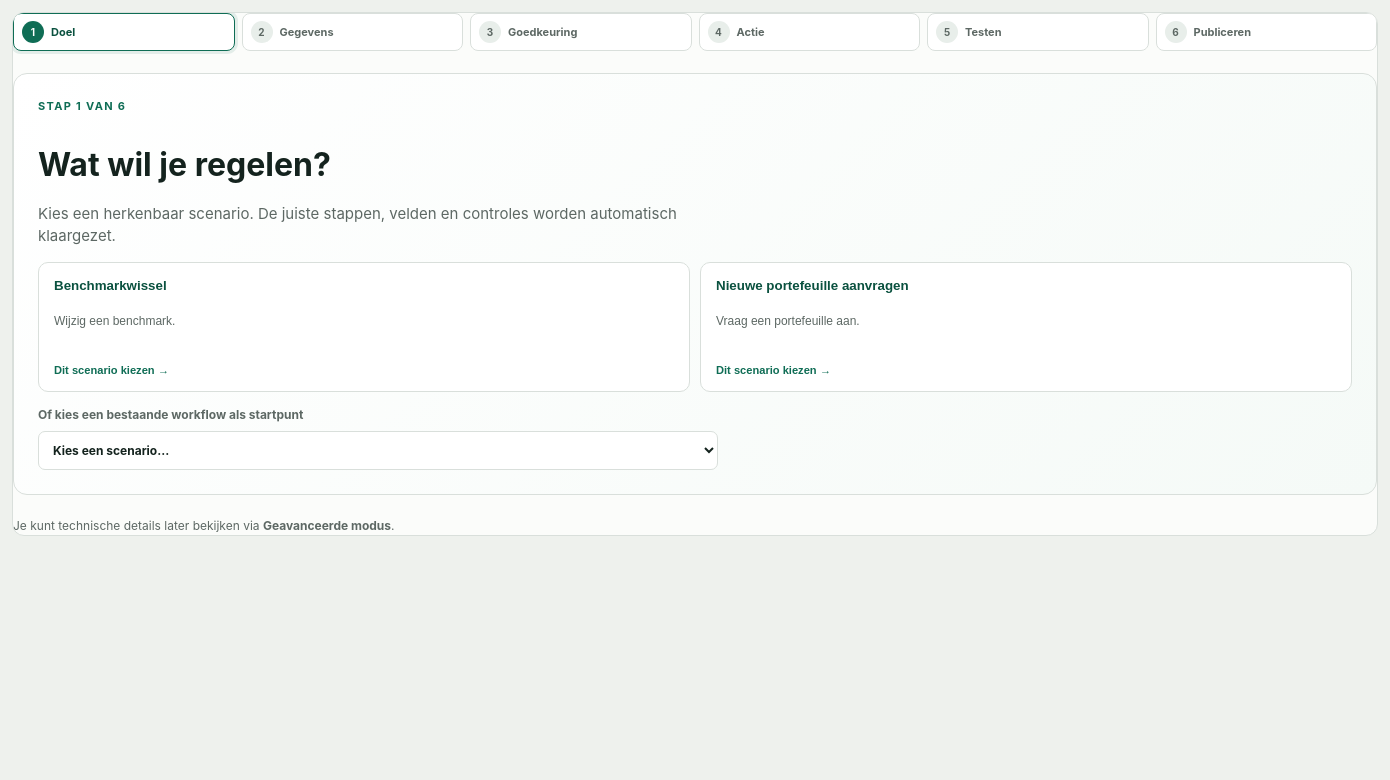
Scenario: workflow wizard › shows business scenarios and advances from goal to details
This screenshot has width=1390, height=780.
expect the heading "Wat wil je regelen?" is shown: met, box [38, 144, 331, 184]
expect the button "Benchmarkwissel Wijzig een benchmark. Dit scenario kiezen →" is shown: met, box [38, 262, 690, 392]
Click the button "Nieuwe portefeuille aanvragen".
click(812, 285)  # box [700, 262, 1352, 392]
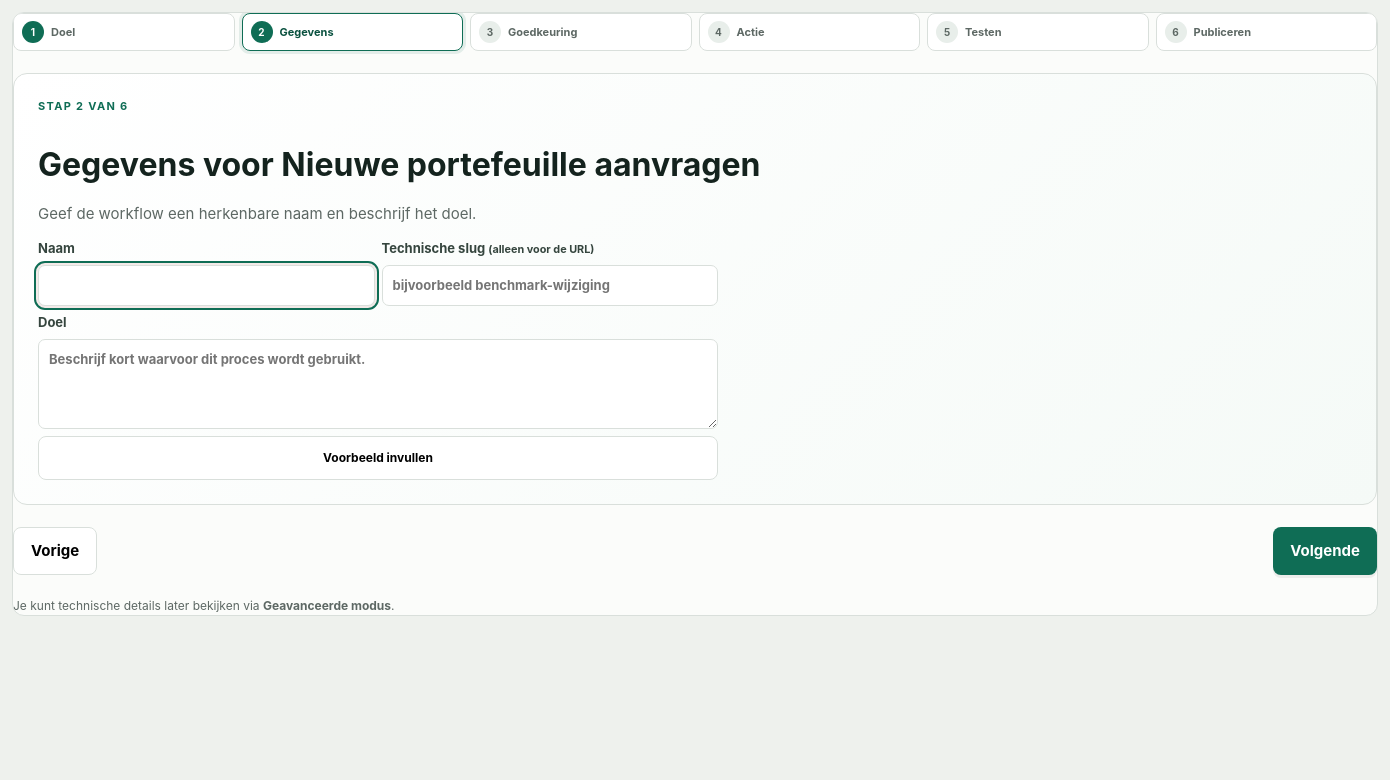
expect the heading "Gegevens voor Nieuwe portefeuille aanvragen" is shown: met, box [38, 144, 760, 184]
